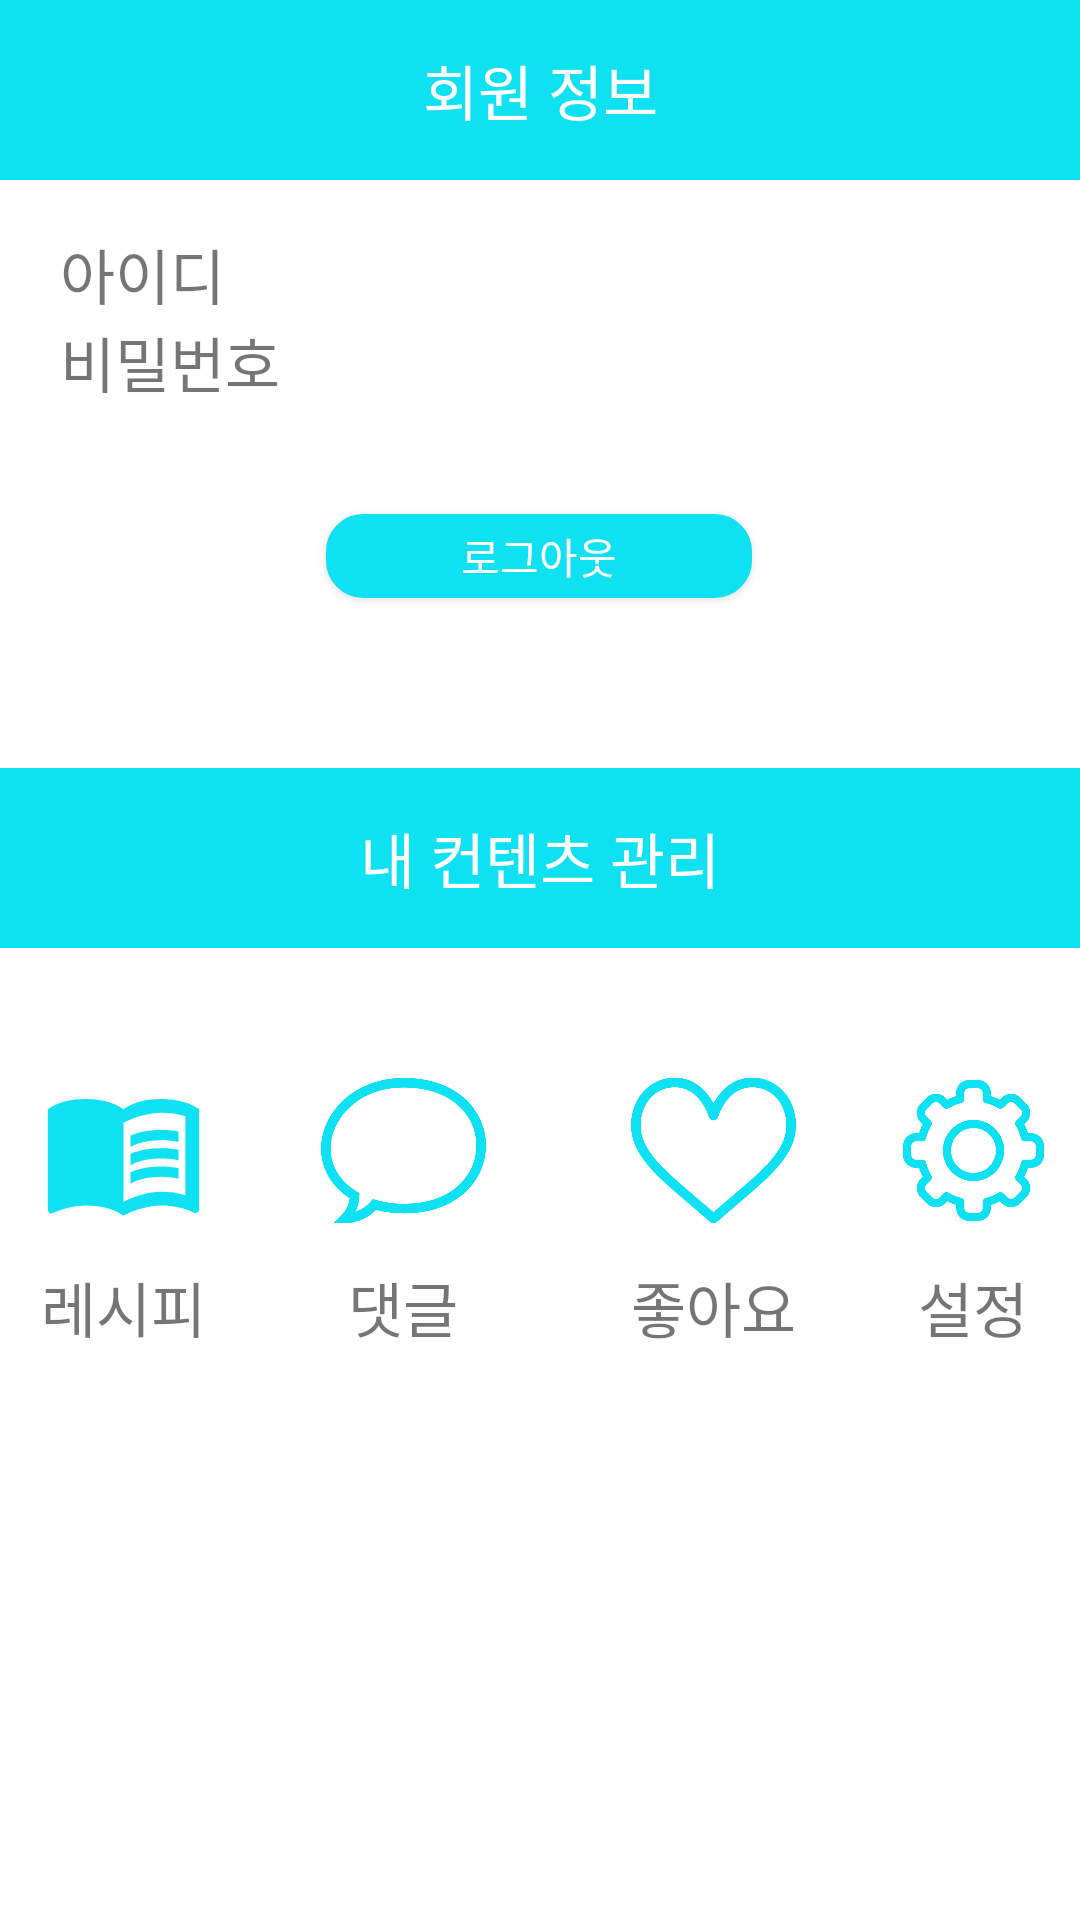

Named icons in this screenshot (1080 x 1920) and their bounding boxes, (x1, y1, x2, y2):
book: (47, 1099, 200, 1216)
settings: (903, 1080, 1044, 1221)
